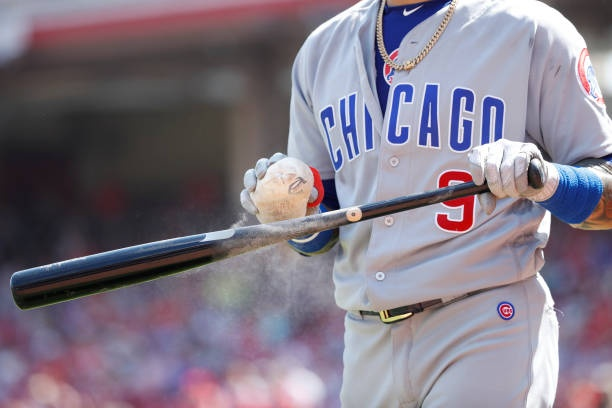bita: (5, 157, 538, 315)
